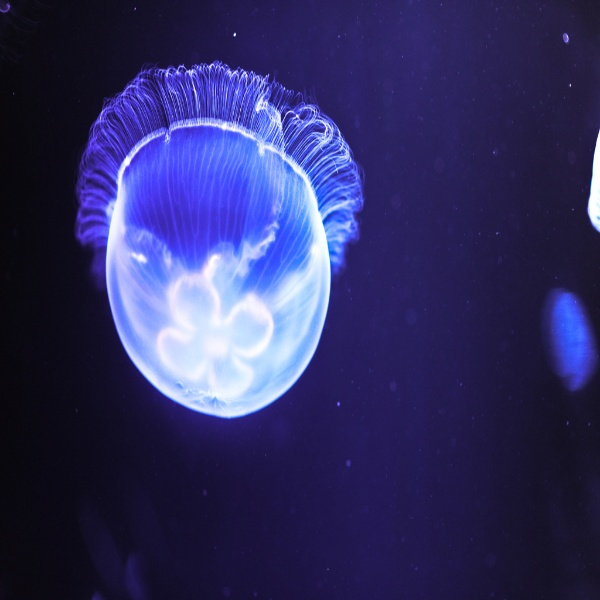Jellyfish: (75, 54, 363, 427)
